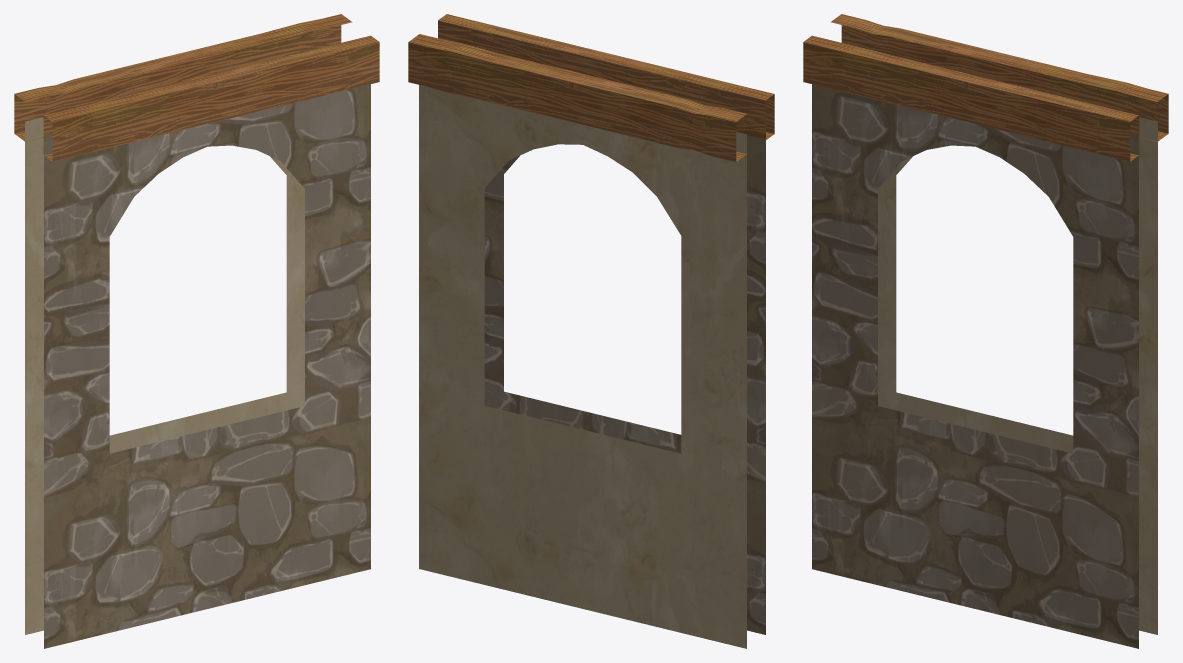
Rendered from Wall_UnevenBrick_Window_Wide_Round.gltf.
The picture shows the model from 3 angles, left to right: view 1: azimuth 30°, elevation 25°; view 2: azimuth 150°, elevation 25°; view 3: azimuth 330°, elevation 25°; orthographic projection.
Visible parts, largest first — view 1: Wall_UnevenBrick_Window_Wide_Round; view 2: Wall_UnevenBrick_Window_Wide_Round; view 3: Wall_UnevenBrick_Window_Wide_Round.
Part boxes in pixels (x1,y1,x2,y2): Wall_UnevenBrick_Window_Wide_Round: (14,14,379,648); Wall_UnevenBrick_Window_Wide_Round: (408,14,774,648); Wall_UnevenBrick_Window_Wide_Round: (803,14,1168,648).
Bounding box in the file's own units: 2 × 3.12 × 0.4065.
3 materials, 3 textured.
